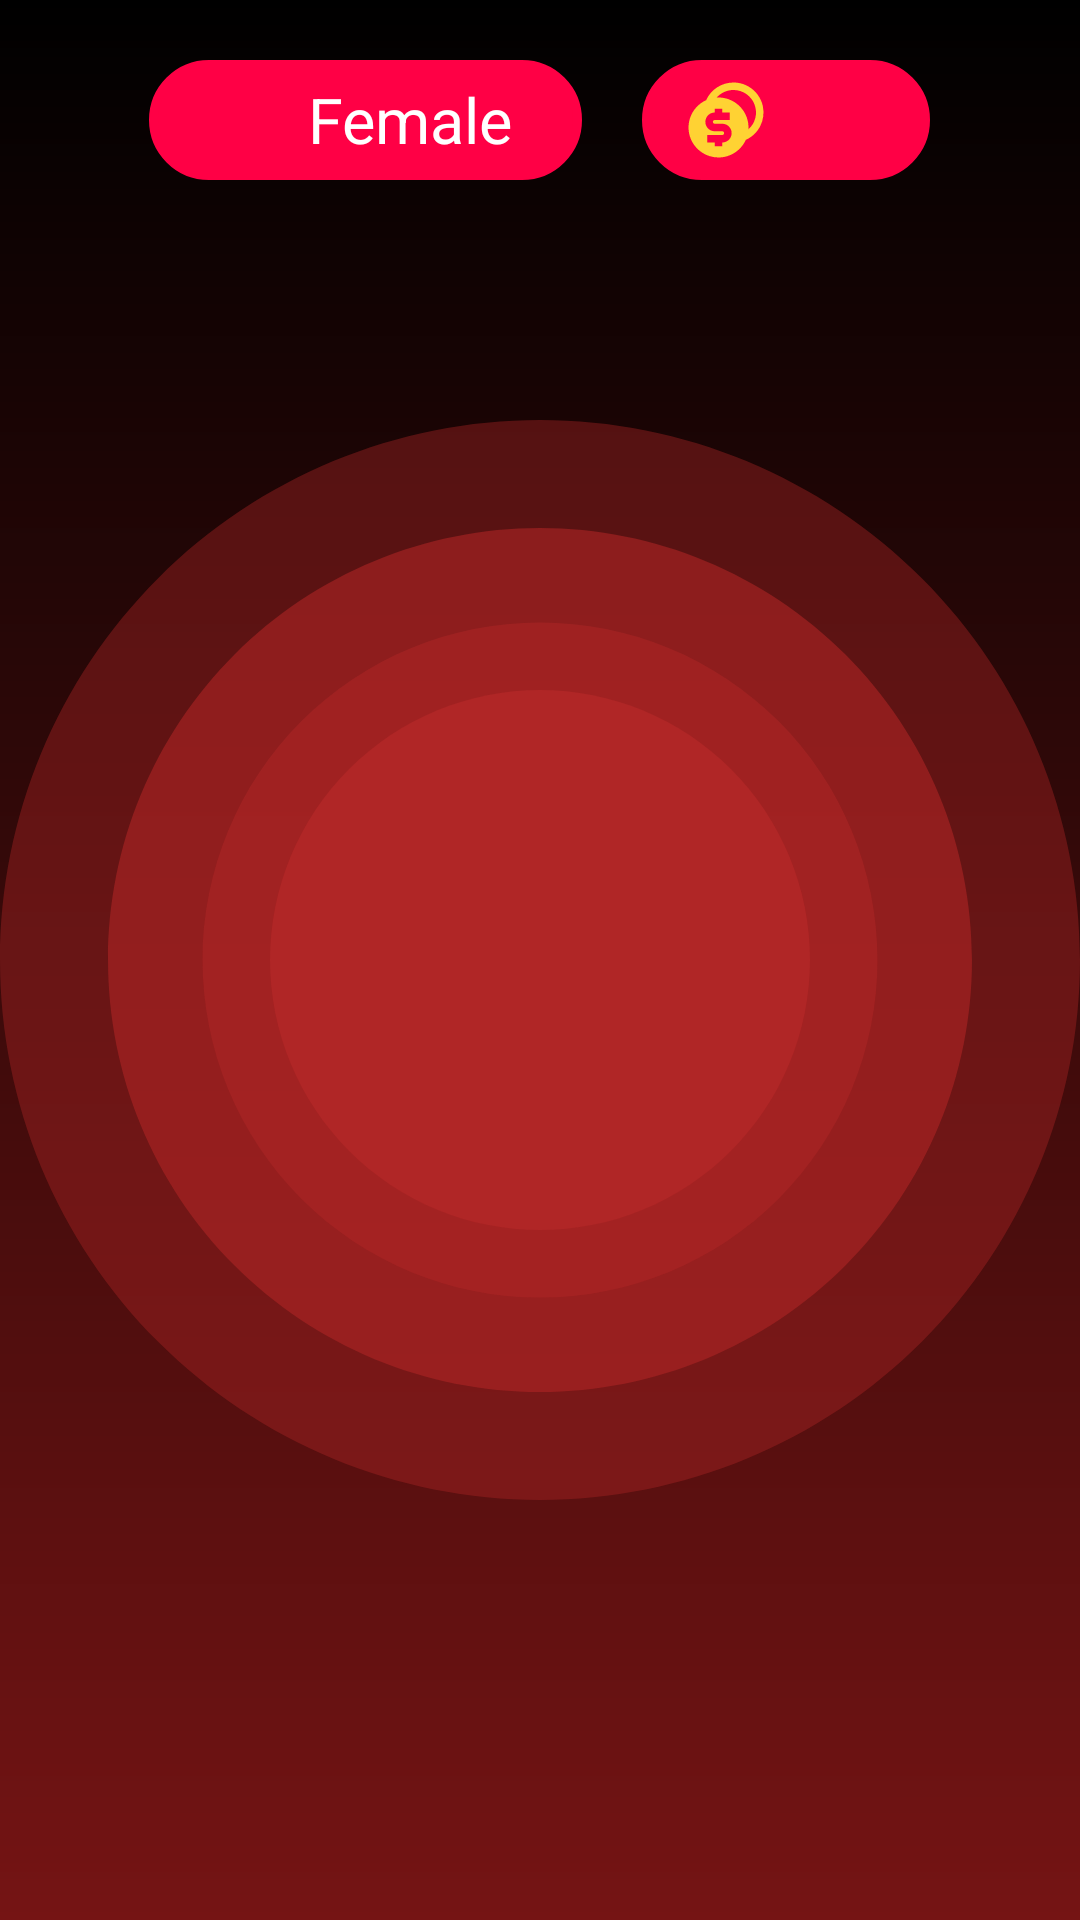

Point at icon controls on the screen. Image size 1080w x 1920h, points as [x,y].
coin: [726,120]
